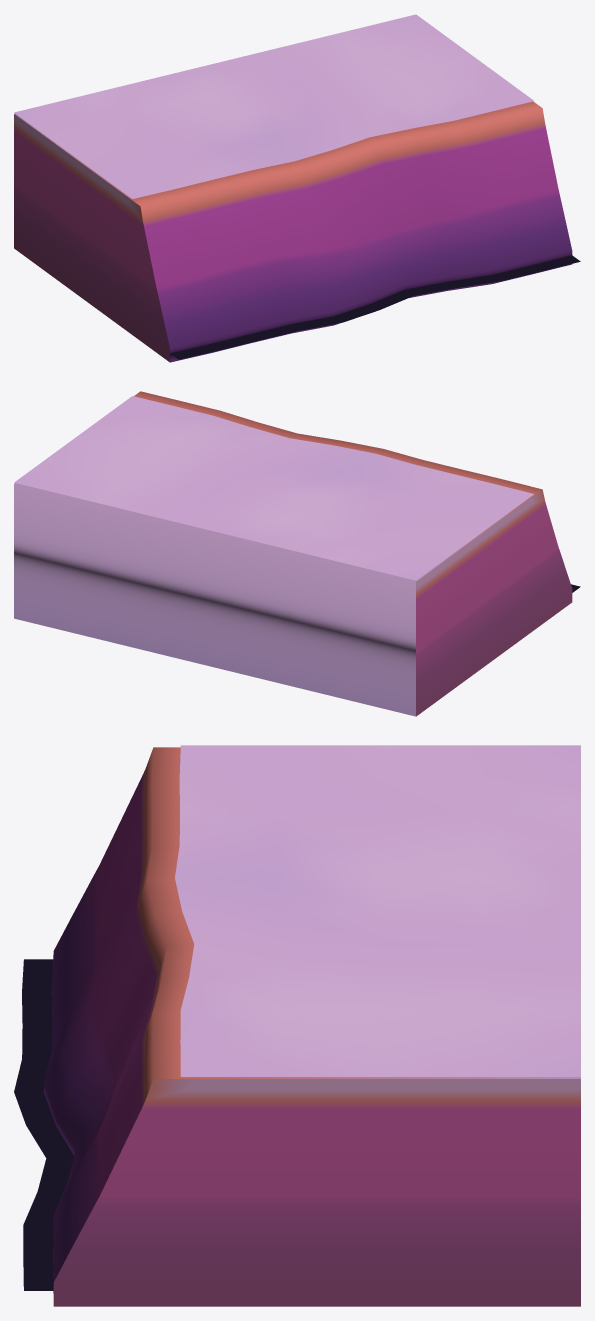
Rendered from ledge_glitter.glb.
The picture shows the model from 3 angles, top to bottom: view 1: azimuth 30°, elevation 25°; view 2: azimuth 150°, elevation 25°; view 3: azimuth 270°, elevation 25°; orthographic projection. The views are drawn at different scales.
Parts seen in each view (by area): view 1: Ledge.001; view 2: Ledge.001; view 3: Ledge.001.
Part boxes in pixels (<box>): Ledge.001: <box>14,14,580,362</box>; Ledge.001: <box>14,391,580,716</box>; Ledge.001: <box>14,745,580,1306</box>.
Size of the model in its own units: 1 by 0.323 by 0.7226.
